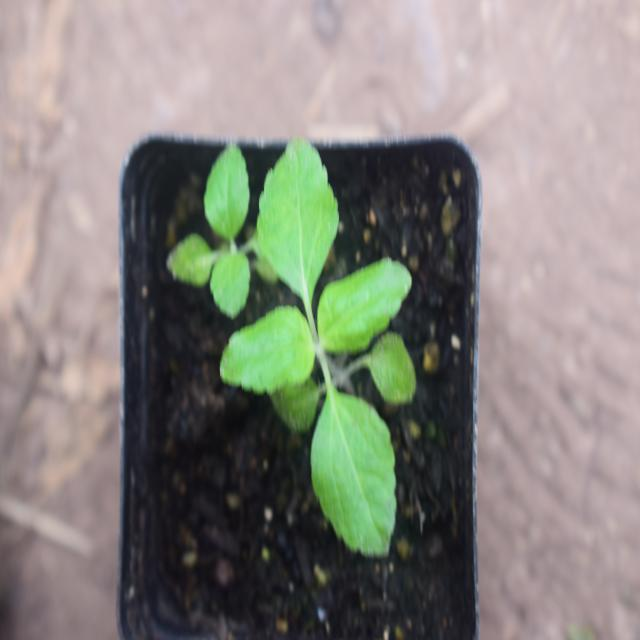billygoat_weed: (233, 135, 409, 563)
